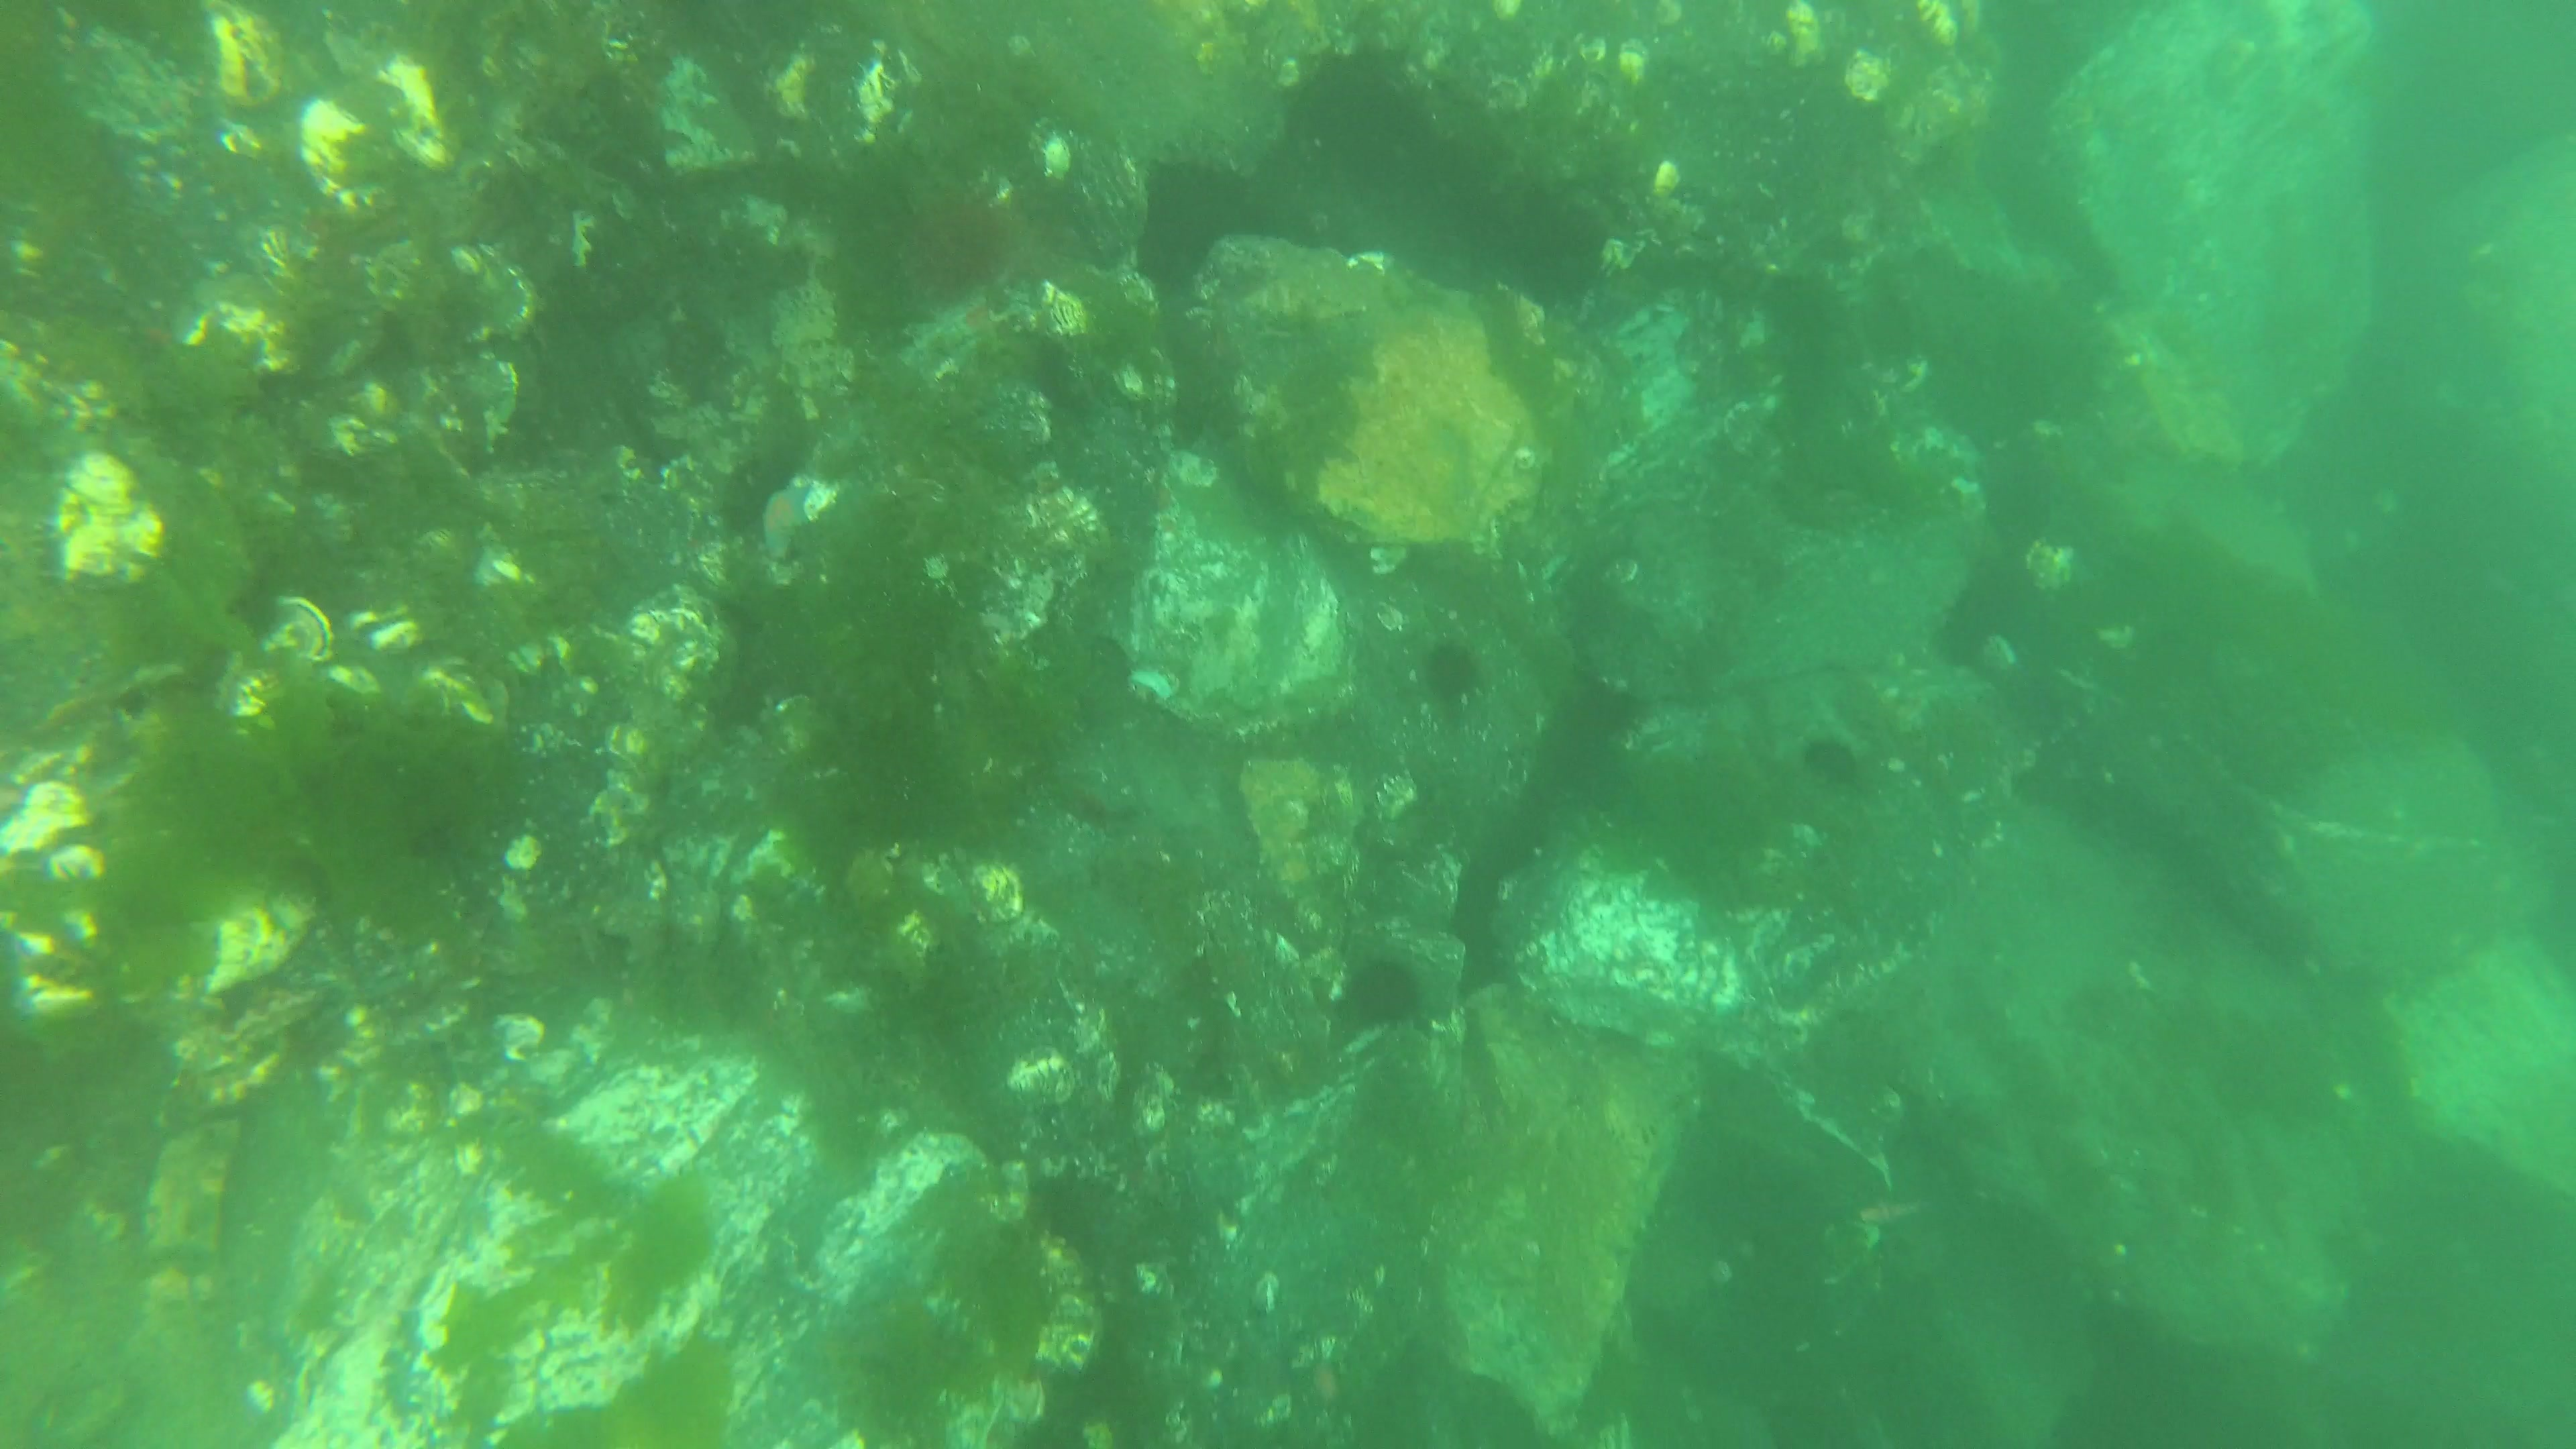echinus: (1345, 952, 1421, 1024), (1424, 644, 1491, 708), (1801, 738, 1863, 798)
